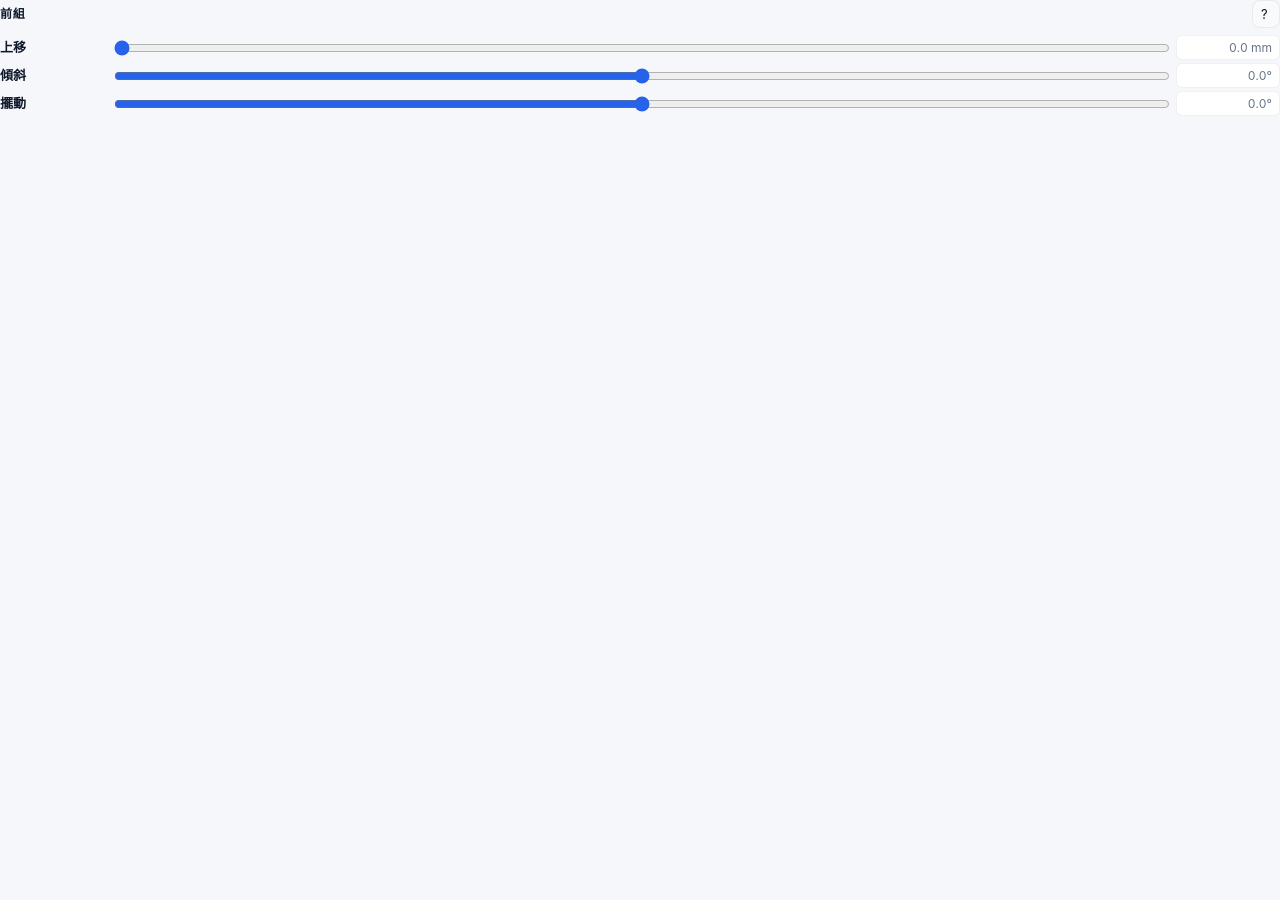
Movement Help › switches Movement Help to equivalent zh-HK terminology
This screenshot has width=1280, height=900.
Click the button named "說明".
click(1266, 14)  # box x1=1252 y1=0 x2=1279 y2=28
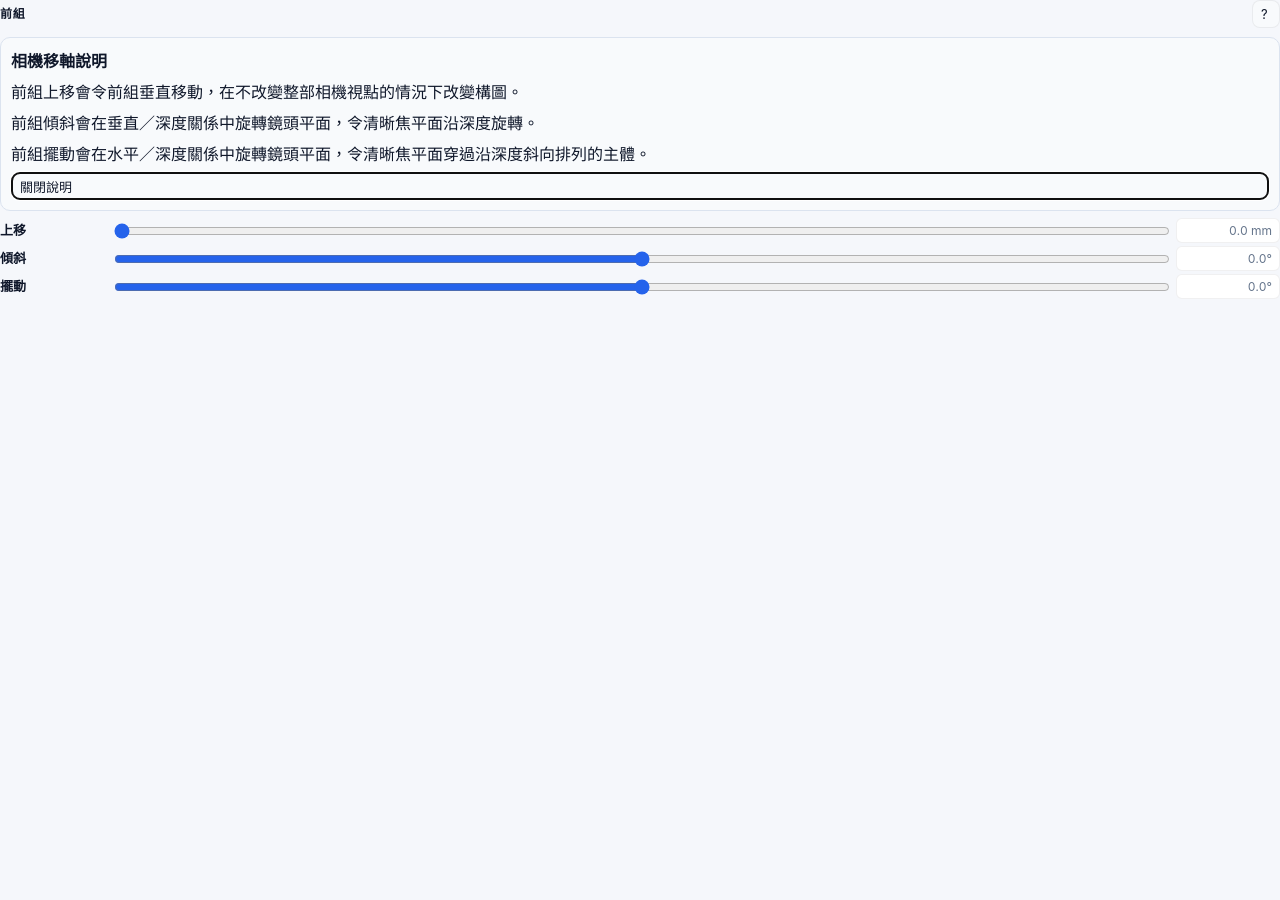
Expected: the heading "相機移軸說明" is shown, x1=11 y1=51 x2=107 y2=71
Expected: the text "前組上移會令前組垂直移動，在不改變整部相機視點的情況下改變構圖。" is shown, x1=11 y1=82 x2=523 y2=102
Expected: the text "前組傾斜會在垂直／深度關係中旋轉鏡頭平面，令清晰焦平面沿深度旋轉。" is shown, x1=11 y1=113 x2=539 y2=133
